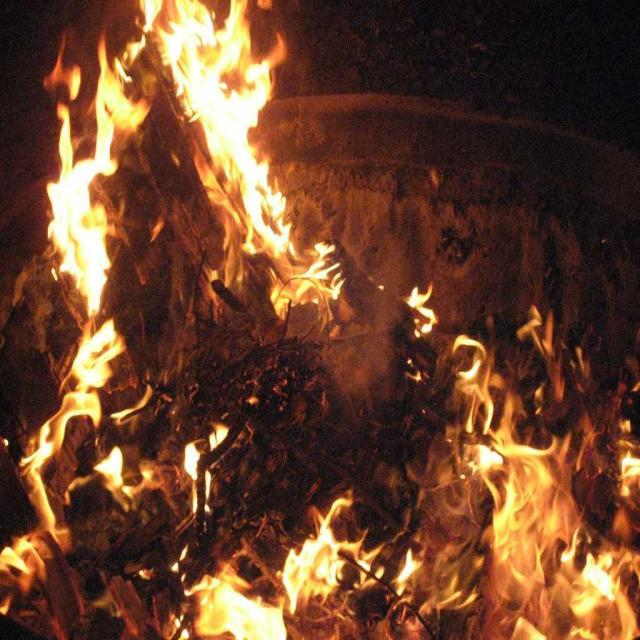Fire: (150, 2, 334, 304), (454, 340, 630, 639), (32, 54, 150, 293), (50, 296, 148, 500), (292, 538, 424, 630), (0, 422, 57, 618), (182, 570, 287, 639), (182, 435, 215, 514), (310, 492, 362, 538), (404, 275, 436, 336)
